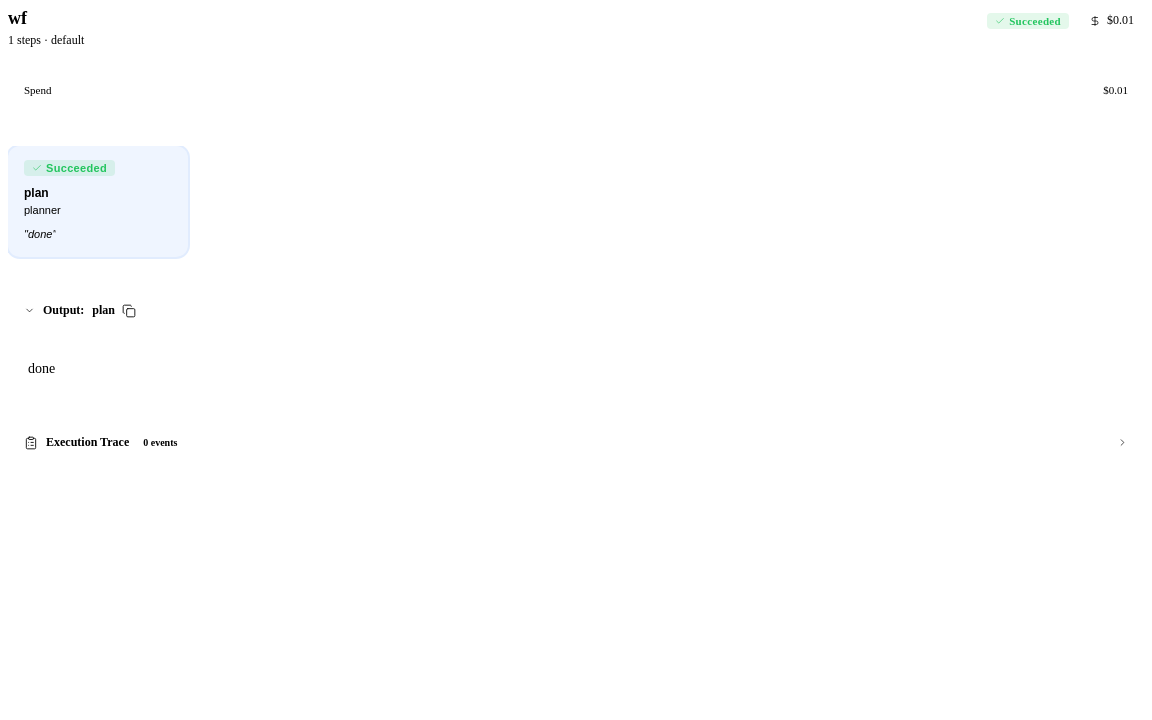
WorkflowView trace › shows a block of model reasoning as one entry, not one per fragment
This screenshot has width=1152, height=720.
Click the button "Execution Trace 0 events".
click(88, 442)  # box [8,424,1144,461]
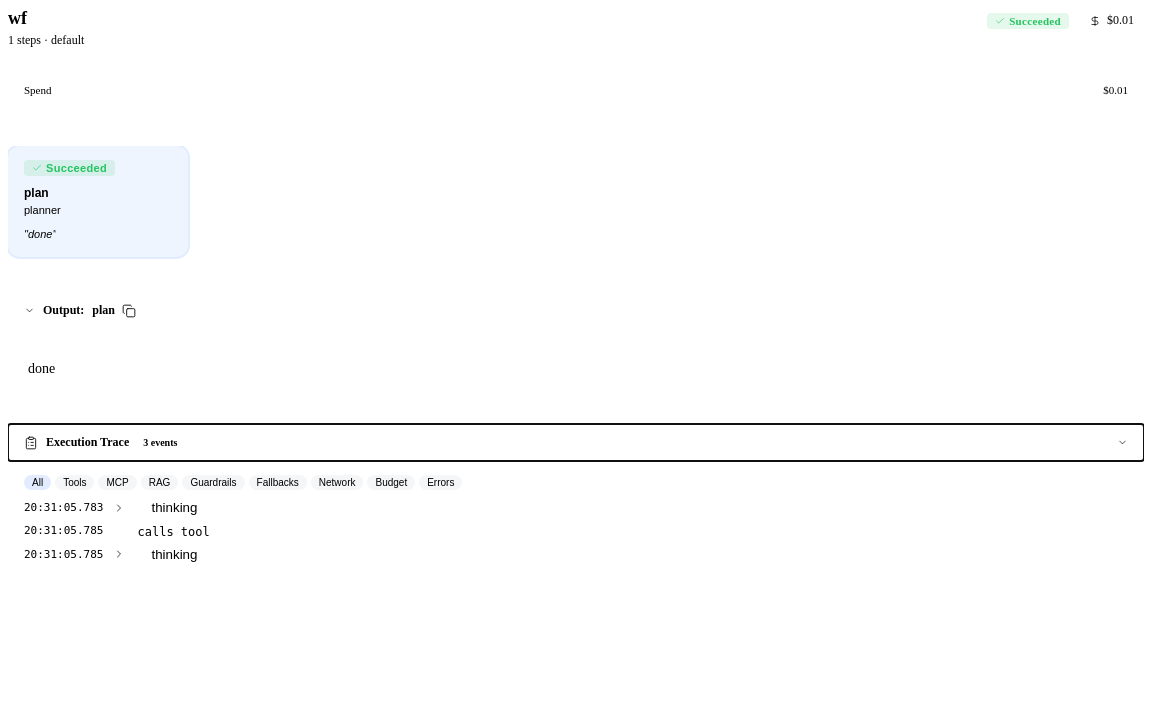
Expected: the text "thinking" is shown 2 times, [152,500,198,515]; [152,547,198,562]
